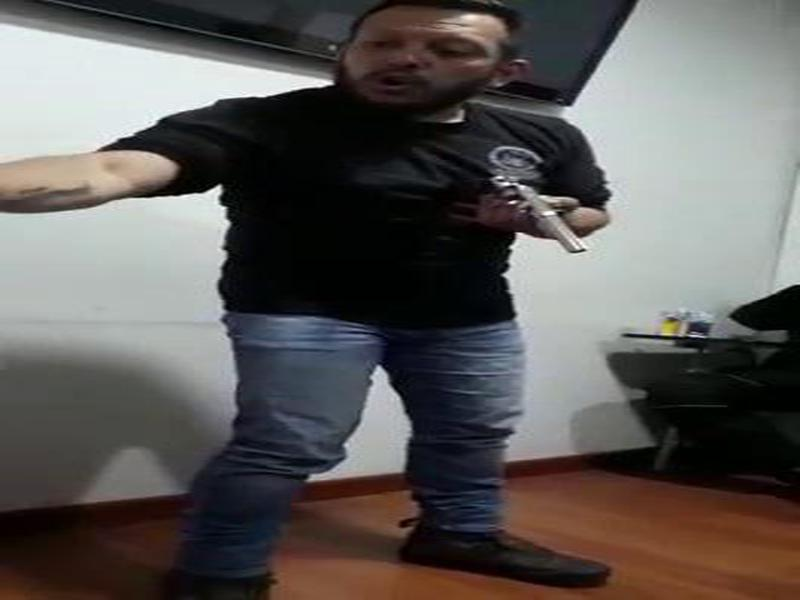Revolver: (412, 154, 607, 281)
